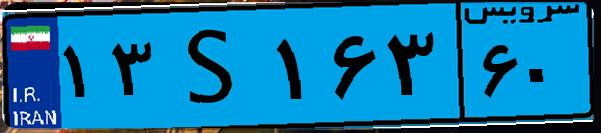0: (525, 38, 570, 115)
1: (270, 28, 330, 110), (57, 26, 110, 100)
3: (385, 28, 445, 110), (110, 28, 158, 98)
6: (330, 28, 385, 110), (475, 38, 525, 113)
S: (158, 12, 270, 120)
